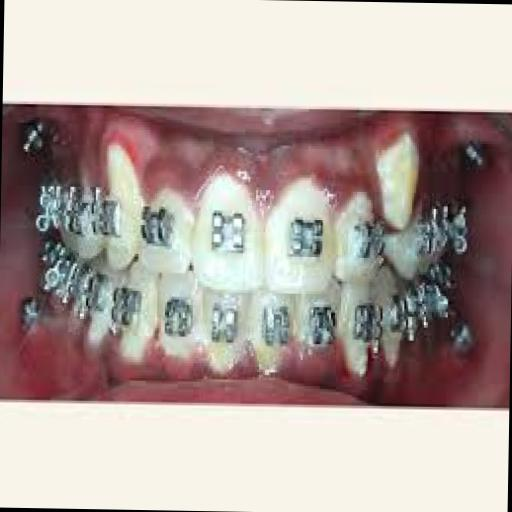correct_brace: (207, 206, 249, 260), (286, 211, 326, 263), (140, 201, 178, 251)
incorrect_brace: (136, 181, 194, 275)
